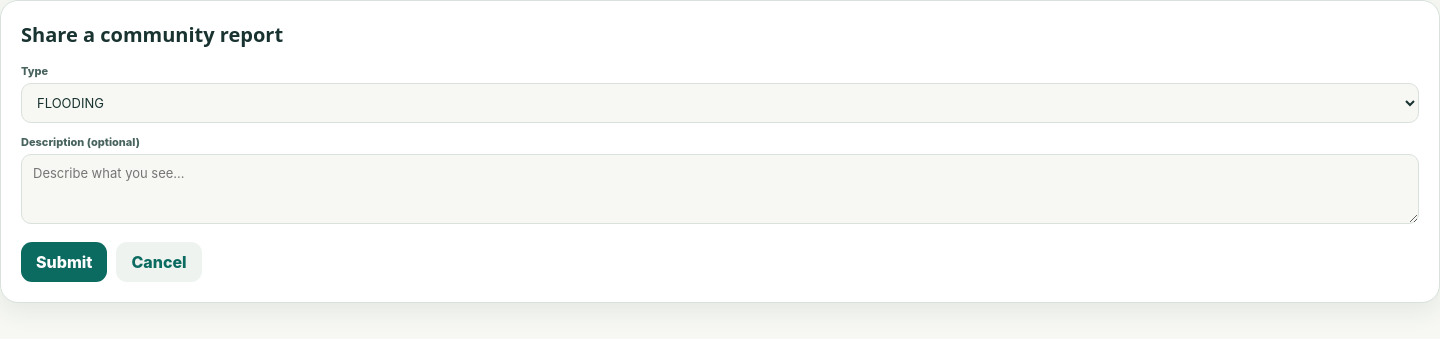
Test: ReportSubmit › shows error message on fetch failure
Click the button "Submit".
click(64, 262)  # box [21,242,107,282]
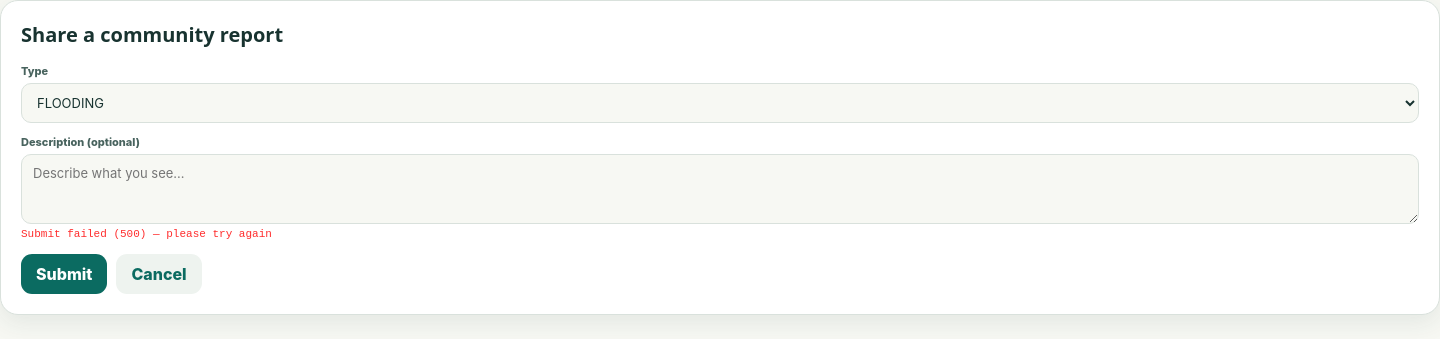
Now the text "Submit failed (500) — please try again" is shown, box [21,228,272,240]
